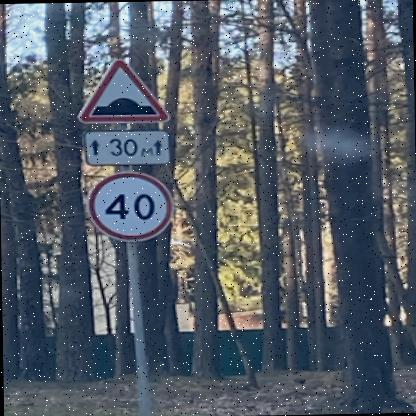speedlimit: (86, 170, 172, 240)
